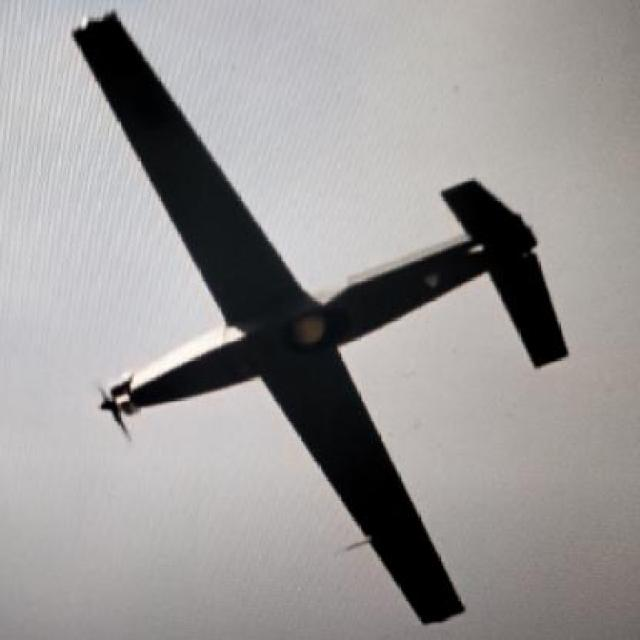iha: (1, 0, 626, 637)
